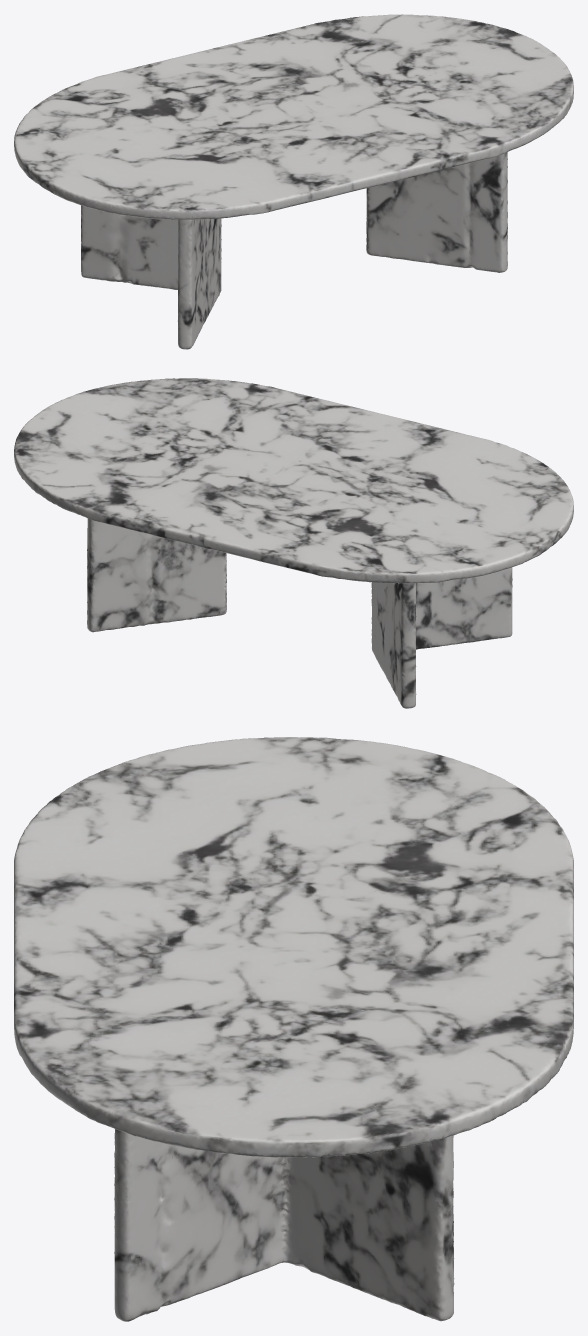
The model's file is oval_shaped_coffee_table_oa9ncx.glb.
3 views of the same model, one above another, from view 1: azimuth 30°, elevation 25°; view 2: azimuth 150°, elevation 25°; view 3: azimuth 270°, elevation 25° (orthographic). The views are drawn at different scales.
Visible parts, largest first — view 1: world; view 2: world; view 3: world.
Boxes of the visible parts, x1,y1,x2,y2 form: world: (14, 14, 573, 349); world: (14, 378, 573, 708); world: (14, 737, 573, 1321).
Bounding box in the file's own units: 0.9982 × 0.2957 × 0.5821.
1 material, 1 textured.
